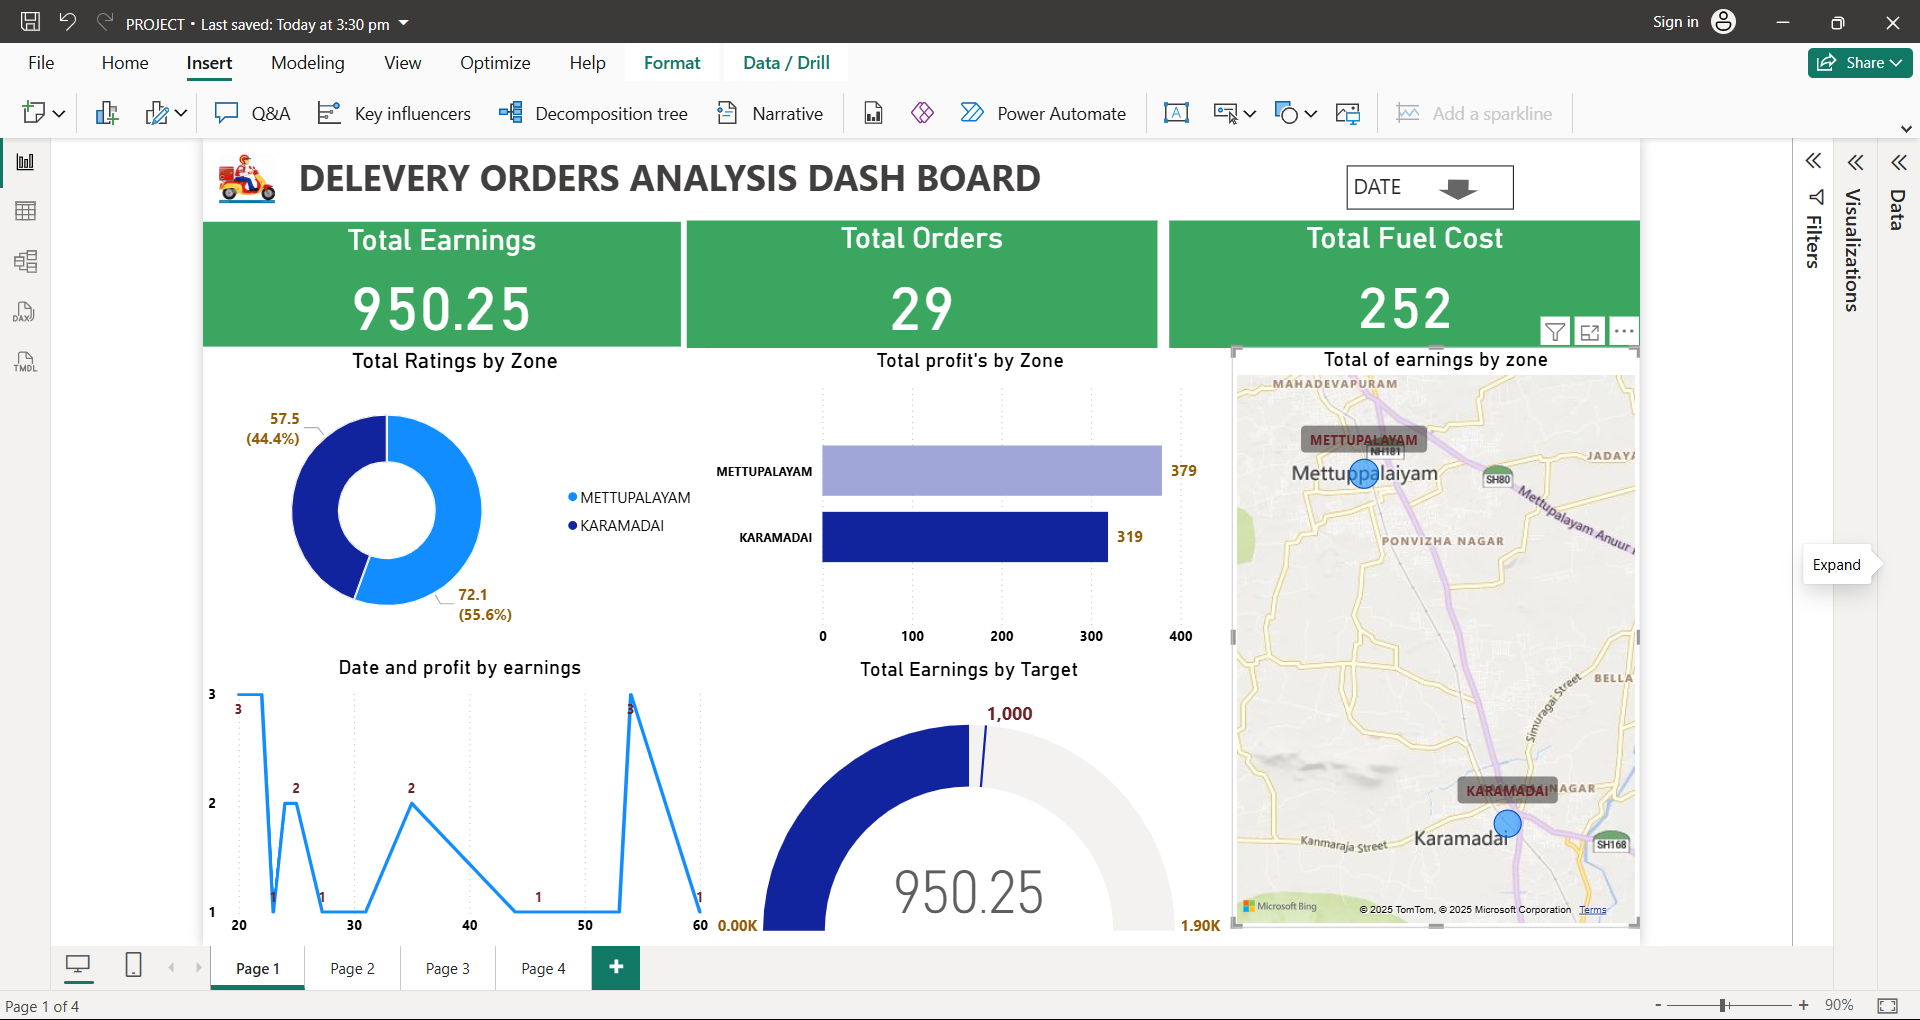

This screenshot's page, from the dashboard's own definition file:
{"tool":"powerbi","page":{"name":"Page 1","canvas":[1280,720],"ordinal":0},"visuals":[{"type":"textbox","box":[0,0,1280.3,89.2],"z":0},{"type":"image","box":[0,10,77.8,53.3],"z":1000},{"type":"card","title":"Total Earnings","fields":{"Values":["Sum(Sheet1.earnings)"]},"box":[0,74.4,425.6,111.1],"z":2000},{"type":"card","title":"Total Orders","fields":{"Values":["CountNonNull(Sheet1.order_id)"]},"box":[431.1,73.3,418.9,113.3],"z":3000},{"type":"card","title":"Total Fuel Cost","fields":{"Values":["Sum(Sheet1.fuel)"]},"box":[860,73.3,420,113.3],"z":4000},{"type":"barChart","title":"Total profit''s by Zone","fields":{"Category":["Sheet1.zone"],"Y":["Sum(Sheet1.profit)"]},"box":[451.2,187.2,465.1,275.6],"z":5000},{"type":"donutChart","title":"Total Ratings by Zone","fields":{"Y":["Sum(Sheet1.customer_rating)"],"Category":["Sheet1.zone"]},"box":[0,186.7,448.9,267.8],"z":6000},{"type":"lineChart","title":" Date and  profit by earnings","fields":{"Category":["Sheet1.earnings"],"Y":["Count(Sheet1.profit)"]},"box":[0,461.1,457.8,258.9],"z":7000},{"type":"map","title":"Total of earnings by zone","fields":{"Size":["Sum(Sheet1.earnings)"],"Category":["Sheet1.zone"]},"box":[916.3,186,364,517.4],"z":8000},{"type":"gauge","title":"Total Earnings by Target","fields":{"Y":["Sum(Sheet1.earnings)"],"TargetValue":["Sheet1.Total_Earnings"]},"box":[448.8,461.6,467.4,258.1],"z":9000},{"type":"textbox","box":[1018.6,24.4,148.8,39.5],"z":10000},{"type":"shape","box":[1098.8,37.2,38.4,18.6],"z":11000}]}

Visuals, with their boxes on the page's 1280x720 design canvas (x1, y1, x2, y2). These are canvas units, not pixel positions in the 1920x1020 screenshot, which may show the page scaled, cropped or inside an application window:
textbox: [0,0,1280,89]
image: [0,10,78,63]
"Total Earnings" card: [0,74,426,186]
"Total Orders" card: [431,73,850,187]
"Total Fuel Cost" card: [860,73,1280,187]
"Total profit''s by Zone" barChart: [451,187,916,463]
"Total Ratings by Zone" donutChart: [0,187,449,454]
" Date and  profit by earnings" lineChart: [0,461,458,720]
"Total of earnings by zone" map: [916,186,1280,703]
"Total Earnings by Target" gauge: [449,462,916,720]
textbox: [1019,24,1167,64]
shape: [1099,37,1137,56]
